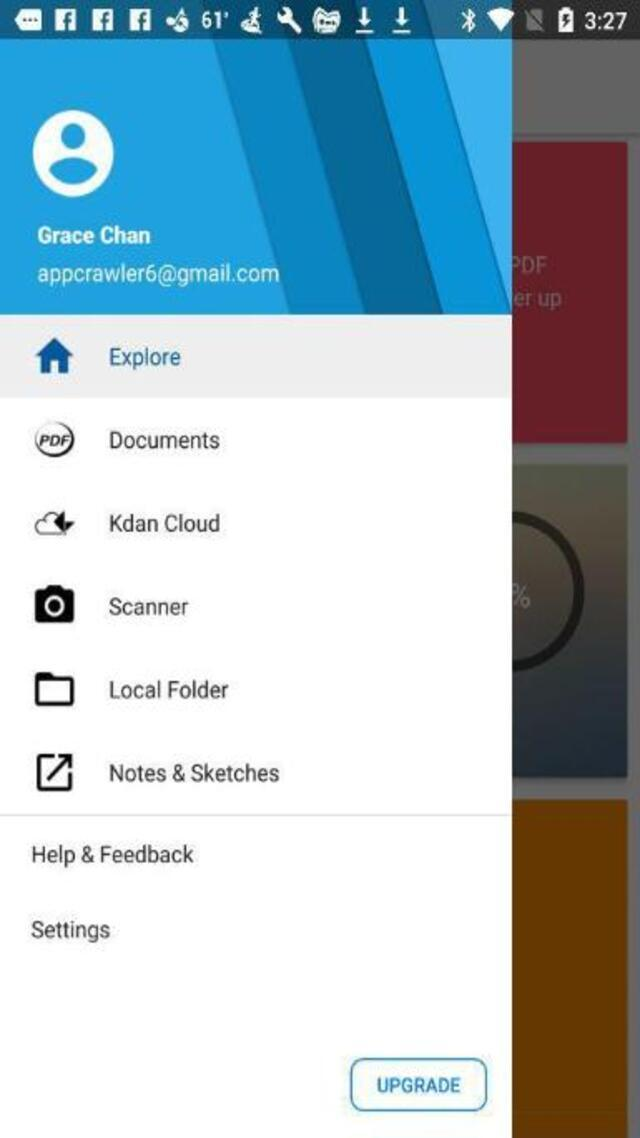Icon: (32, 108, 114, 198), (34, 584, 76, 622), (34, 670, 76, 706), (36, 752, 74, 791), (35, 337, 75, 374), (35, 421, 75, 457), (34, 510, 76, 536)
Text: (36, 262, 280, 286), (29, 843, 194, 868), (106, 760, 280, 780), (109, 428, 220, 450), (109, 510, 220, 532), (110, 678, 230, 698), (36, 224, 150, 245), (374, 1072, 464, 1095), (31, 919, 109, 944), (109, 346, 180, 372), (108, 596, 188, 617)
TextButton: (350, 1058, 488, 1111)
